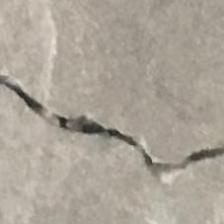Crack: (0, 48, 224, 224)
